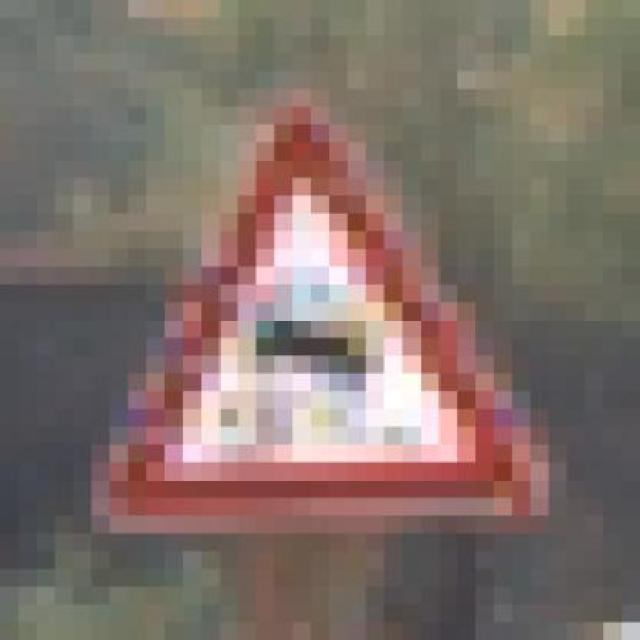Slippery Road Ahead: (59, 58, 553, 557)
